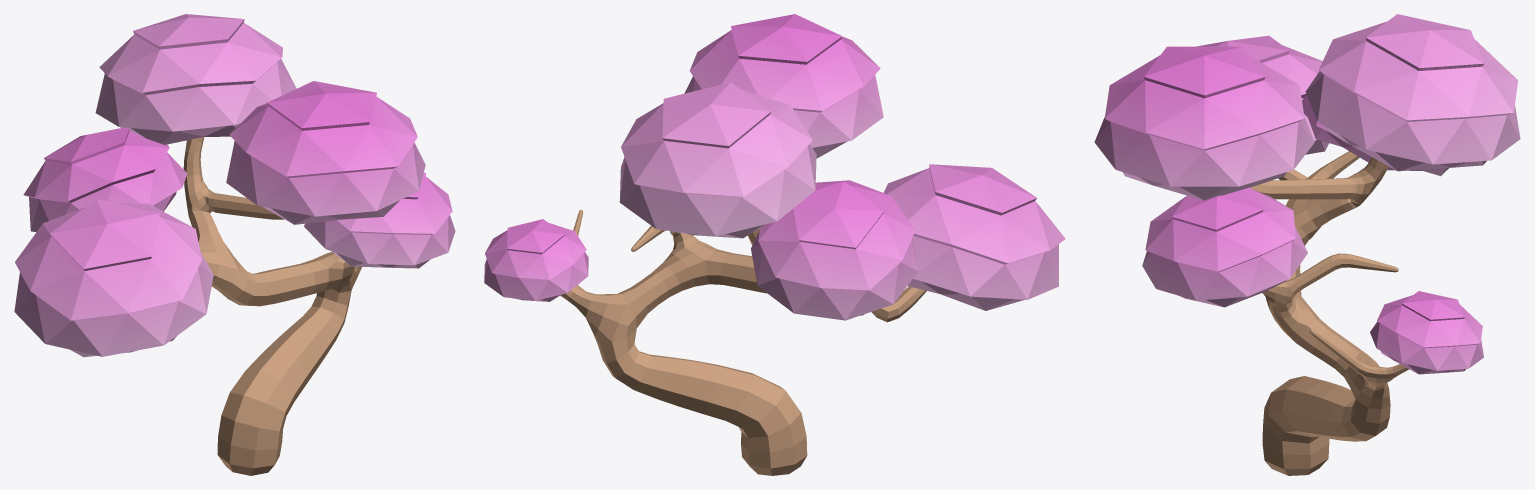
Rendered from Tree_Cherry.fbx.
3 renders of one model, left to right at view 1: azimuth 30°, elevation 25°; view 2: azimuth 150°, elevation 25°; view 3: azimuth 270°, elevation 25°, orthographic. The views are drawn at different scales.
Visible parts, largest first — view 1: Leaves.003, Leaves, Cube, Leaves.001, Leaves.004, Leaves.002; view 2: Leaves.001, Cube, Leaves.003, Leaves.004, Leaves, Leaves.005; view 3: Leaves, Leaves.001, Cube, Leaves.002, Leaves.005, Leaves.003, Leaves.004.
Boxes of the visible parts, left/top/right/bottom form: Leaves.003: left=14, top=199, right=213, bottom=357; Leaves: left=226, top=81, right=425, bottom=224; Cube: left=183, top=137, right=361, bottom=475; Leaves.001: left=95, top=14, right=296, bottom=144; Leaves.004: left=23, top=127, right=187, bottom=232; Leaves.002: left=304, top=172, right=455, bottom=268; Leaves.001: left=619, top=82, right=816, bottom=238; Cube: left=560, top=209, right=926, bottom=475; Leaves.003: left=883, top=164, right=1065, bottom=310; Leaves.004: left=751, top=180, right=918, bottom=320; Leaves: left=684, top=14, right=883, bottom=158; Leaves.005: left=484, top=219, right=588, bottom=301; Leaves: left=1094, top=46, right=1314, bottom=200; Leaves.001: left=1305, top=14, right=1520, bottom=171; Cube: left=1250, top=151, right=1409, bottom=475; Leaves.002: left=1142, top=187, right=1307, bottom=307; Leaves.005: left=1370, top=291, right=1483, bottom=374; Leaves.003: left=1196, top=35, right=1328, bottom=154; Leaves.004: left=1302, top=71, right=1448, bottom=176.
Size of the model in its own units: 459 by 384 by 336.
2 materials, 1 textured.
